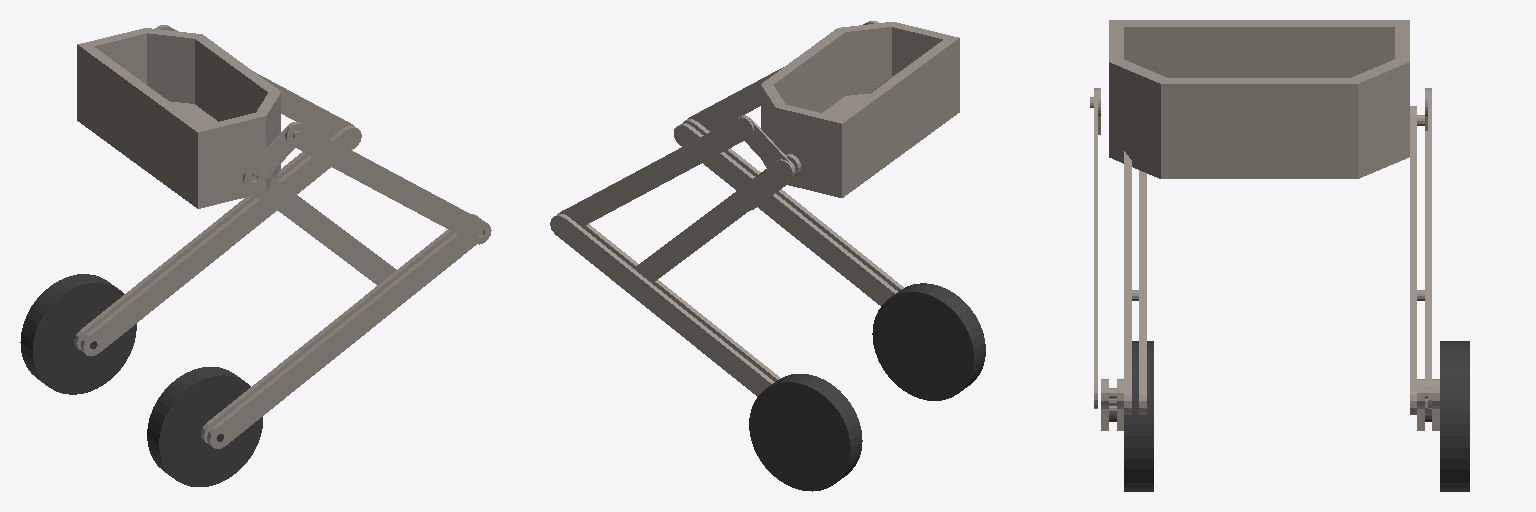
The robot description file, URDF, robot "robot_sim":
<?xml version="1.0" encoding="utf-8"?>
<!-- This URDF was automatically created by SolidWorks to URDF Exporter! Originally created by [author] ([email redacted]) 
     Commit Version: 1.5.1-0-g916b5db  Build Version: 1.5.7152.31018
     For more information, please see http://wiki.ros.org/sw_urdf_exporter -->
<robot
  name="robot_sim">
  <link
    name="base_link">
    <inertial>
      <origin
        xyz="-0.00342916585015192 -6.93889390390723E-17 0.00689675694280453"
        rpy="0 0 0" />
      <mass
        value="3.93165375597317" />
      <inertia
        ixx="0.0174788200369906"
        ixy="1.09520852907832E-16"
        ixz="4.99847232359159E-05"
        iyy="0.00673617303443379"
        iyz="-4.84659221617227E-17"
        izz="0.0204525333058458" />
    </inertial>
    <visual>
      <origin
        xyz="0 0 0"
        rpy="0 0 0" />
      <geometry>
        <mesh
          filename="package://gazebo_sim/meshes/base_link.STL" />
      </geometry>
      <material
        name="green">
        <color
          rgba="0.650980392156863 0.619607843137255 0.588235294117647 1" />
      </material>
    </visual>
    <collision>
      <origin
        xyz="0 0 0"
        rpy="0 0 0" />
      <geometry>
        <mesh
          filename="package://gazebo_sim/meshes/base_link.STL" />
      </geometry>
    </collision>
  </link>
  <link
    name="r_hip">
    <inertial>
      <origin
        xyz="0.09809 -2.2204E-16 -0.012449"
        rpy="0 0 0" />
      <mass
        value="0.3404" />
      <inertia
        ixx="2.0351E-05"
        ixy="1.3087E-18"
        ixz="1.7009E-06"
        iyy="0.0013239"
        iyz="3.2661E-20"
        izz="0.0013258" />
    </inertial>
    <visual>
      <origin
        xyz="0 0 0"
        rpy="0 0 0" />
      <geometry>
        <mesh
          filename="package://gazebo_sim/meshes/r_hip.STL" />
      </geometry>
      <material
        name="orange">
        <color
          rgba="0.65098 0.61961 0.58824 1" />
      </material>
    </visual>
    <collision>
      <origin
        xyz="0 0 0"
        rpy="0 0 0" />
      <geometry>
        <mesh
          filename="package://gazebo_sim/meshes/r_hip.STL" />
      </geometry>
    </collision>
  </link>
  <joint
    name="base_rhip"
    type="continuous">
    <origin
      xyz="0 -0.0949999999999995 0"
      rpy="-1.57079632679489 0.759938086259391 0" />
    <parent
      link="base_link" />
    <child
      link="r_hip" />
    <axis
      xyz="0 0 -1" />
  </joint>
  <link
    name="r_shank">
    <inertial>
      <origin
        xyz="0.058363 -2.7756E-17 -0.0075"
        rpy="0 0 0" />
      <mass
        value="0.466" />
      <inertia
        ixx="2.7767E-05"
        ixy="-1.5077E-19"
        ixz="2.612E-17"
        iyy="0.0033716"
        iyz="6.6813E-21"
        izz="0.0033744" />
    </inertial>
    <visual>
      <origin
        xyz="0 0 0"
        rpy="0 0 0" />
      <geometry>
        <mesh
          filename="package://gazebo_sim/meshes/r_shank.STL" />
      </geometry>
      <material
        name="orange">
        <color
          rgba="0.65098 0.61961 0.58824 1" />
      </material>
    </visual>
    <collision>
      <origin
        xyz="0 0 0"
        rpy="0 0 0" />
      <geometry>
        <mesh
          filename="package://gazebo_sim/meshes/r_shank.STL" />
      </geometry>
    </collision>
  </link>
  <joint
    name="r_hip_shank"
    type="continuous">
    <origin
      xyz="0.2 0 -0.00999999999999844"
      rpy="0 0 1.89156576083626" />
    <parent
      link="r_hip" />
    <child
      link="r_shank" />
    <axis
      xyz="0 0 1" />
  </joint>
  <link
    name="r_wheel">
    <inertial>
      <origin
        xyz="2.6368E-16 1.3878E-17 -0.024926"
        rpy="0 0 0" />
      <mass
        value="0.30465" />
      <inertia
        ixx="0.00020014"
        ixy="3.7044E-34"
        ixz="-1.9015E-18"
        iyy="0.00020014"
        iyz="9.1488E-21"
        izz="0.00037922" />
    </inertial>
    <visual>
      <origin
        xyz="0 0 0"
        rpy="0 0 0" />
      <geometry>
        <mesh
          filename="package://gazebo_sim/meshes/r_wheel.STL" />
      </geometry>
      <material
        name="black">
        <color
          rgba="0.29804 0.29804 0.29804 1" />
      </material>
    </visual>
    <collision>
      <origin
        xyz="0 0 0"
        rpy="0 0 0" />
      <geometry>
        <mesh
          filename="package://gazebo_sim/meshes/r_wheel.STL" />
      </geometry>
    </collision>
  </link>
  <joint
    name="r_shank_wheel"
    type="continuous">
    <origin
      xyz="0.2 0 0"
      rpy="0 0 -2.65150384709565" />
    <parent
      link="r_shank" />
    <child
      link="r_wheel" />
    <axis
      xyz="0 0 -1" />
  </joint>
  <link
    name="r_r">
    <inertial>
      <origin
        xyz="0.025 -6.9389E-18 -0.00125"
        rpy="0 0 0" />
      <mass
        value="0.024056" />
      <inertia
        ixx="8.1473E-07"
        ixy="-3.8381E-21"
        ixz="-5.1315E-20"
        iyy="8.327E-06"
        iyz="-3.9568E-21"
        izz="9.1167E-06" />
    </inertial>
    <visual>
      <origin
        xyz="0 0 0"
        rpy="0 0 0" />
      <geometry>
        <mesh
          filename="package://gazebo_sim/meshes/r_r.STL" />
      </geometry>
      <material
        name="blue">
        <color
          rgba="0.65098 0.61961 0.58824 1" />
      </material>
    </visual>
    <collision>
      <origin
        xyz="0 0 0"
        rpy="0 0 0" />
      <geometry>
        <mesh
          filename="package://gazebo_sim/meshes/r_r.STL" />
      </geometry>
    </collision>
  </link>
  <joint
    name="r_hip_r"
    type="continuous">
    <origin
      xyz="0 0 -0.0125000000000005"
      rpy="0 0 -1.43413627566753" />
    <parent
      link="r_hip" />
    <child
      link="r_r" />
    <axis
      xyz="0 0 -1" />
  </joint>
  <link
    name="r_l">
    <inertial>
      <origin
        xyz="0.10794 1.1102E-16 -0.0012266"
        rpy="0 0 0" />
      <mass
        value="0.092515" />
      <inertia
        ixx="3.086E-06"
        ixy="-2.4352E-20"
        ixz="2.3396E-07"
        iyy="0.00042845"
        iyz="-2.819E-22"
        izz="0.00043143" />
    </inertial>
    <visual>
      <origin
        xyz="0 0 0"
        rpy="0 0 0" />
      <geometry>
        <mesh
          filename="package://gazebo_sim/meshes/r_l.STL" />
      </geometry>
      <material
        name="blue">
        <color
          rgba="0.65098 0.61961 0.58824 1" />
      </material>
    </visual>
    <collision>
      <origin
        xyz="0 0 0"
        rpy="0 0 0" />
      <geometry>
        <mesh
          filename="package://gazebo_sim/meshes/r_l.STL" />
      </geometry>
    </collision>
  </link>
  <joint
    name="r_r_l"
    type="continuous">
    <origin
      xyz="0.0500000000000001 0 -0.00249999999999974"
      rpy="0 0 1.31391222804274" />
    <parent
      link="r_r" />
    <child
      link="r_l" />
    <axis
      xyz="0 0 1" />
  </joint>
  <link
    name="l_hip">
    <inertial>
      <origin
        xyz="0.0980897090918828 -1.31283872661925E-14 0.0124490589091169"
        rpy="0 0 0" />
      <mass
        value="0.340395514213306" />
      <inertia
        ixx="2.03508125095655E-05"
        ixy="3.78623727422672E-19"
        ixz="-1.70088721129861E-06"
        iyy="0.00132394075140107"
        iyz="1.98721940739371E-20"
        izz="0.00132576853961242" />
    </inertial>
    <visual>
      <origin
        xyz="0 0 0"
        rpy="0 0 0" />
      <geometry>
        <mesh
          filename="package://gazebo_sim/meshes/l_hip.STL" />
      </geometry>
      <material
        name="">
        <color
          rgba="0.650980392156863 0.619607843137255 0.588235294117647 1" />
      </material>
    </visual>
    <collision>
      <origin
        xyz="0 0 0"
        rpy="0 0 0" />
      <geometry>
        <mesh
          filename="package://gazebo_sim/meshes/l_hip.STL" />
      </geometry>
    </collision>
  </link>
  <joint
    name="base_lhip"
    type="continuous">
    <origin
      xyz="0 0.095 0"
      rpy="-1.5708 0.75994 0" />
    <parent
      link="base_link" />
    <child
      link="l_hip" />
    <axis
      xyz="0 0 1" />
  </joint>
  <link
    name="l_shank">
    <inertial>
      <origin
        xyz="0.0583627198007163 8.66529070719935E-14 0.00749999999999962"
        rpy="0 0 0" />
      <mass
        value="0.465995514213305" />
      <inertia
        ixx="2.77666279792054E-05"
        ixy="-6.21613000737755E-15"
        ixz="2.5425474784617E-17"
        iyy="0.00337161978135629"
        iyz="2.50255435546915E-20"
        izz="0.00337440508743133" />
    </inertial>
    <visual>
      <origin
        xyz="0 0 0"
        rpy="0 0 0" />
      <geometry>
        <mesh
          filename="package://gazebo_sim/meshes/l_shank.STL" />
      </geometry>
      <material
        name="orange">
        <color
          rgba="0.650980392156863 0.619607843137255 0.588235294117647 1" />
      </material>
    </visual>
    <collision>
      <origin
        xyz="0 0 0"
        rpy="0 0 0" />
      <geometry>
        <mesh
          filename="package://gazebo_sim/meshes/l_shank.STL" />
      </geometry>
    </collision>
  </link>
  <joint
    name="l_hip_shank"
    type="continuous">
    <origin
      xyz="0.2 0 0.0100000000000024"
      rpy="0 0 1.89156576083605" />
    <parent
      link="l_hip" />
    <child
      link="l_shank" />
    <axis
      xyz="0 0 -1" />
  </joint>
  <link
    name="l_wheel">
    <inertial>
      <origin
        xyz="-3.12597170371021E-14 -8.68055627378794E-14 0.0249264820289405"
        rpy="0 0 0" />
      <mass
        value="0.304647727899217" />
      <inertia
        ixx="0.000200135995924421"
        ixy="1.37915947266969E-33"
        ixz="-1.87316458070536E-18"
        iyy="0.000200135995924421"
        iyz="-1.22592926177029E-19"
        izz="0.000379218867070302" />
    </inertial>
    <visual>
      <origin
        xyz="0 0 0"
        rpy="0 0 0" />
      <geometry>
        <mesh
          filename="package://gazebo_sim/meshes/l_wheel.STL" />
      </geometry>
      <material
        name="black">
        <color
          rgba="0.298039215686275 0.298039215686275 0.298039215686275 1" />
      </material>
    </visual>
    <collision>
      <origin
        xyz="0 0 0"
        rpy="0 0 0" />
      <geometry>
        <mesh
          filename="package://gazebo_sim/meshes/l_wheel.STL" />
      </geometry>
    </collision>
  </link>
  <joint
    name="l_shank_wheel"
    type="continuous">
    <origin
      xyz="0.199999999999968 0 0"
      rpy="0 0 -2.65150384709512" />
    <parent
      link="l_shank" />
    <child
      link="l_wheel" />
    <axis
      xyz="0 0 1" />
  </joint>
  <link
    name="l_r">
    <inertial>
      <origin
        xyz="0.0250000000000037 8.05466804365551E-14 0.00125000000000025"
        rpy="0 0 0" />
      <mass
        value="0.0240563637000441" />
      <inertia
        ixx="8.14734276802335E-07"
        ixy="-2.12551271410442E-17"
        ixz="-4.84949291732862E-20"
        iyy="8.32704492266324E-06"
        iyz="-2.9122266501099E-21"
        izz="9.11672048727803E-06" />
    </inertial>
    <visual>
      <origin
        xyz="0 0 0"
        rpy="0 0 0" />
      <geometry>
        <mesh
          filename="package://gazebo_sim/meshes/l_r.STL" />
      </geometry>
      <material
        name="blue">
        <color
          rgba="0.650980392156863 0.619607843137255 0.588235294117647 1" />
      </material>
    </visual>
    <collision>
      <origin
        xyz="0 0 0"
        rpy="0 0 0" />
      <geometry>
        <mesh
          filename="package://gazebo_sim/meshes/l_r.STL" />
      </geometry>
    </collision>
  </link>
  <joint
    name="l_hip_r"
    type="continuous">
    <origin
      xyz="0 0 0.0150000000000004"
      rpy="0 0 -1.43413627566782" />
    <parent
      link="l_hip" />
    <child
      link="l_r" />
    <axis
      xyz="0 0 1" />
  </joint>
  <link
    name="l_l">
    <inertial>
      <origin
        xyz="0.107938274520758 2.18713935851156E-14 0.00122657130136866"
        rpy="0 0 0" />
      <mass
        value="0.09251537558267" />
      <inertia
        ixx="3.08602081943041E-06"
        ixy="-5.62112239621635E-19"
        ixz="-2.33957813260484E-07"
        iyy="0.000428450475823576"
        iyz="8.31000383311878E-22"
        izz="0.000431429390449946" />
    </inertial>
    <visual>
      <origin
        xyz="0 0 0"
        rpy="0 0 0" />
      <geometry>
        <mesh
          filename="package://gazebo_sim/meshes/l_l.STL" />
      </geometry>
      <material
        name="blue">
        <color
          rgba="0.650980392156863 0.619607843137255 0.588235294117647 1" />
      </material>
    </visual>
    <collision>
      <origin
        xyz="0 0 0"
        rpy="0 0 0" />
      <geometry>
        <mesh
          filename="package://gazebo_sim/meshes/l_l.STL" />
      </geometry>
    </collision>
  </link>
  <joint
    name="l_r_l"
    type="continuous">
    <origin
      xyz="0.0499999999999611 0 0.00250000000000039"
      rpy="0 0 1.31391222804326" />
    <parent
      link="l_r" />
    <child
      link="l_l" />
    <axis
      xyz="0 0 -1" />
  </joint>

  <!-- Adding transmissions for joint controllers -->
  <transmission name="l_hip_trans">
    <type>transmission_interface/SimpleTransmission</type>
    <joint name="base_lhip">
      <hardwareInterface>hardware_interface/EffortJointInterface</hardwareInterface>
    </joint>
    <actuator name="l_hip_motor">
      <mechanicalReduction>100</mechanicalReduction>
      <!--hardwareInterface>hardware_interface/EffortJointInterface</hardwareInterface-->
    </actuator>
  </transmission>

  <transmission name="r_hip_trans">
    <type>transmission_interface/SimpleTransmission</type>
    <joint name="base_rhip">
      <hardwareInterface>hardware_interface/EffortJointInterface</hardwareInterface>
    </joint>
    <actuator name="l_hip_motor">
      <mechanicalReduction>100</mechanicalReduction>
      <!--hardwareInterface>hardware_interface/EffortJointInterface</hardwareInterface-->
    </actuator>
  </transmission>

  <transmission name="l_knee_trans">
    <type>transmission_interface/SimpleTransmission</type>
    <joint name="l_hip_r">
      <hardwareInterface>hardware_interface/EffortJointInterface</hardwareInterface>
    </joint>
    <actuator name="l_knee_motor">
      <mechanicalReduction>100</mechanicalReduction>
      <!--hardwareInterface>hardware_interface/EffortJointInterface</hardwareInterface-->
    </actuator>
  </transmission>

  <transmission name="r_knee_trans">
    <type>transmission_interface/SimpleTransmission</type>
    <joint name="r_hip_r">
      <hardwareInterface>hardware_interface/EffortJointInterface</hardwareInterface>
    </joint>
    <actuator name="r_knee_motor">
      <mechanicalReduction>100</mechanicalReduction>
      <!--hardwareInterface>hardware_interface/EffortJointInterface</hardwareInterface-->
    </actuator>
  </transmission>

  <transmission name="l_wheel_trans">
    <type>transmission_interface/SimpleTransmission</type>
    <joint name="l_shank_wheel">
      <hardwareInterface>hardware_interface/VelocityJointInterface</hardwareInterface>
      <!--hardwareInterface>hardware_interface/EffortJointInterface</hardwareInterface-->
    </joint>
    <actuator name="l_wheel_motor">
      <mechanicalReduction>1</mechanicalReduction>
      <hardwareInterface>hardware_interface/VelocityJointInterface</hardwareInterface>
      <!--hardwareInterface>hardware_interface/EffortJointInterface</hardwareInterface-->
    </actuator>
  </transmission>

  <transmission name="r_wheel_trans">
    <type>transmission_interface/SimpleTransmission</type>
    <joint name="r_shank_wheel">
      <hardwareInterface>hardware_interface/VelocityJointInterface</hardwareInterface>
      <!--hardwareInterface>hardware_interface/EffortJointInterface</hardwareInterface-->
    </joint>
    <actuator name="r_wheel_motor">
      <mechanicalReduction>1</mechanicalReduction>
      <hardwareInterface>hardware_interface/VelocityJointInterface</hardwareInterface>
      <!--hardwareInterface>hardware_interface/EffortJointInterface</hardwareInterface-->
    </actuator>
  </transmission>

  <gazebo>
        <plugin name="gazebo_ros_control" filename="libgazebo_ros_control.so"/>
        <robotNamespace>/</robotNamespace>
  </gazebo>
  
</robot>

--- Facts derived from the render (not from the file) ---
The picture shows the robot from 3 angles, left to right: view 1: azimuth 30°, elevation 25°; view 2: azimuth 150°, elevation 25°; view 3: azimuth 270°, elevation 25°; orthographic projection.
Model robot_sim with 11 links and 10 joints (10 continuous), rooted at base_link, posed every joint at zero.
Visible links, largest first — view 1: base_link, r_shank, l_wheel, r_wheel, l_shank, r_l, r_hip, l_l, r_r; view 2: base_link, r_wheel, l_wheel, l_shank, r_shank, l_l, l_hip, r_l, l_r; view 3: base_link, l_wheel, r_hip, r_wheel, l_hip, r_l, l_l, r_shank, l_shank.
Boxes of the visible links, x1,y1,x2,y2 form: base_link: [77, 28, 280, 208]; r_shank: [201, 214, 482, 448]; l_wheel: [20, 274, 136, 394]; r_wheel: [147, 367, 262, 486]; l_shank: [74, 121, 361, 355]; r_l: [285, 123, 491, 244]; r_hip: [258, 176, 396, 285]; l_l: [155, 25, 353, 137]; r_r: [243, 122, 301, 188]; base_link: [761, 22, 959, 197]; r_wheel: [872, 283, 985, 400]; l_wheel: [749, 374, 862, 491]; l_shank: [550, 210, 780, 396]; r_shank: [674, 119, 903, 305]; l_l: [558, 116, 753, 226]; l_hip: [633, 154, 800, 283]; r_l: [688, 21, 878, 131]; l_r: [739, 115, 795, 177]; base_link: [1109, 20, 1409, 178]; l_wheel: [1425, 341, 1469, 491]; r_hip: [1124, 151, 1146, 414]; r_wheel: [1109, 341, 1153, 491]; l_hip: [1410, 106, 1431, 414]; r_l: [1090, 88, 1097, 408]; l_l: [1428, 88, 1431, 408]; r_shank: [1101, 379, 1123, 430]; l_shank: [1417, 379, 1439, 430].
Size in the robot's own frame: 0.307 by 0.2525 by 0.3317 metres.
11 mesh visuals loaded from 11 distinct referenced files (11 binary STL).